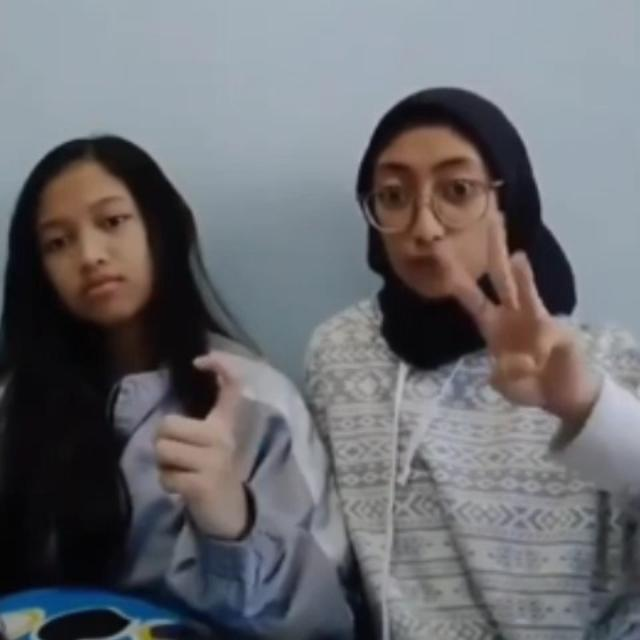W: (422, 206, 588, 410)
X: (160, 347, 252, 509)
